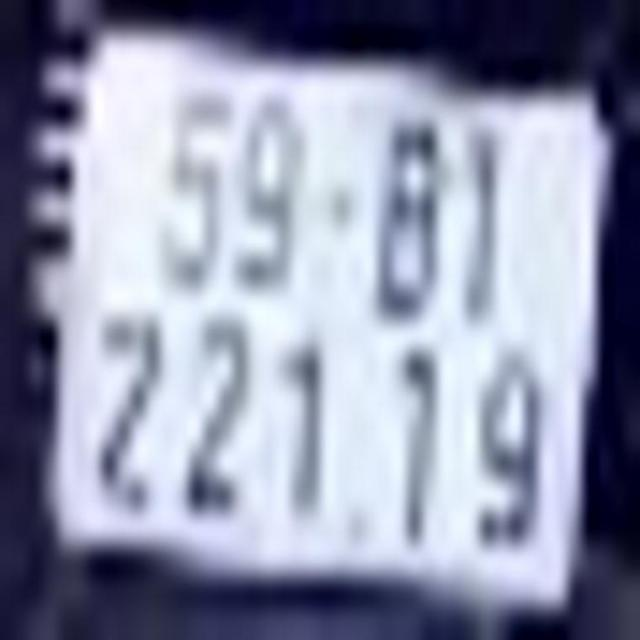1: (277, 333, 324, 562), (394, 344, 441, 571), (459, 119, 500, 331)
2: (183, 313, 257, 522), (97, 314, 163, 516)
5: (160, 89, 231, 289)
9: (473, 346, 543, 565), (236, 91, 306, 303)
B: (375, 119, 449, 322)
